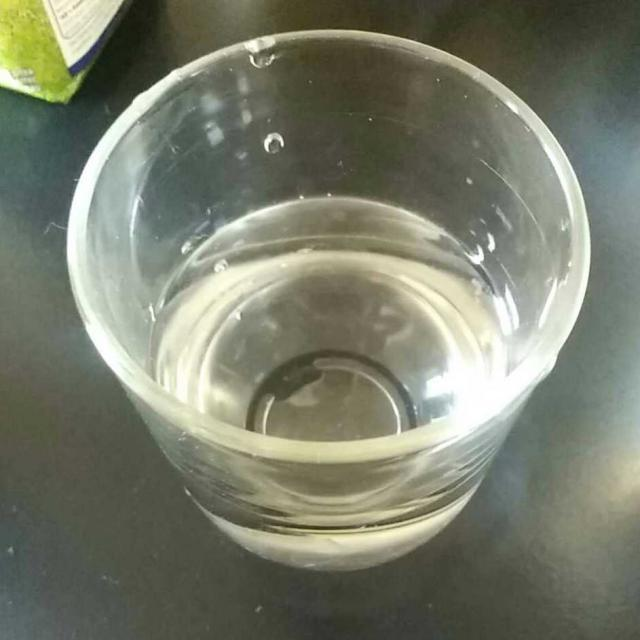water: (151, 240, 512, 443)
